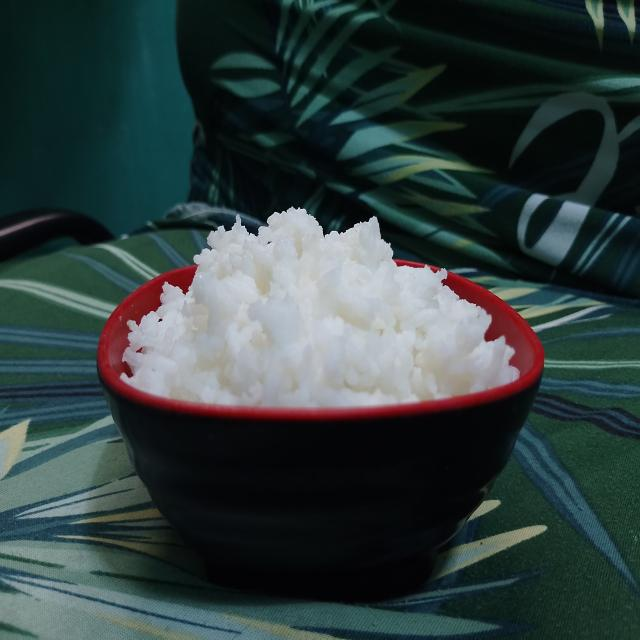Chicken -Chicken Inasal-: (125, 202, 513, 408)
